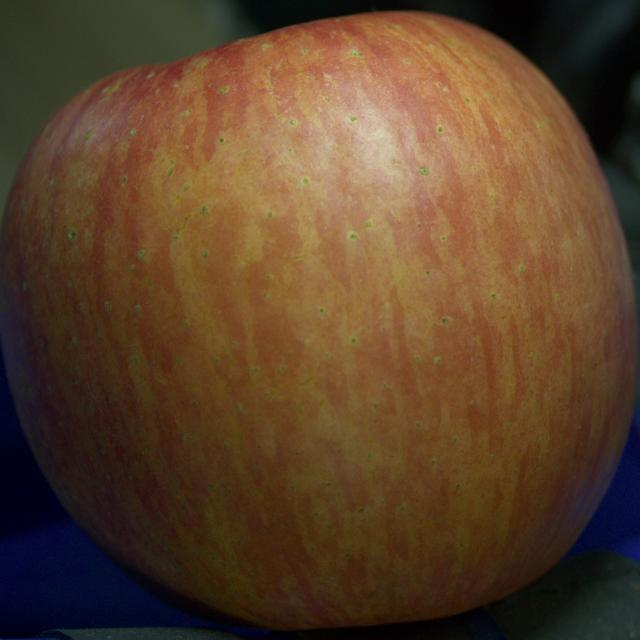apple: (0, 13, 638, 629)
